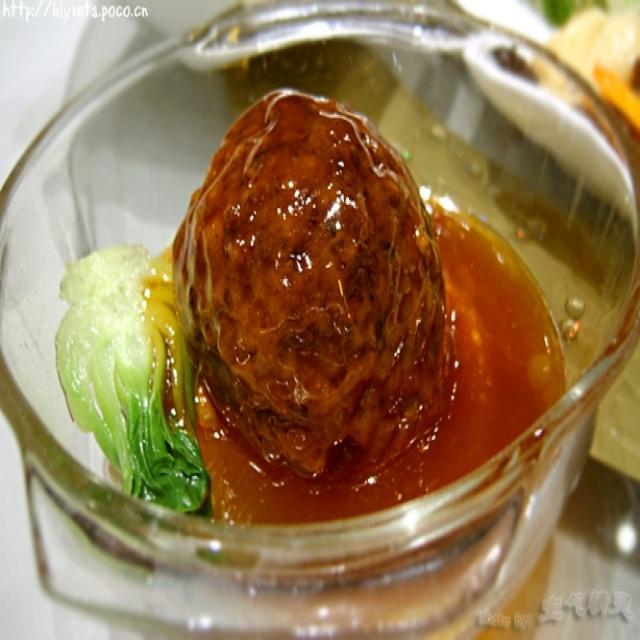猪肉菜式: (27, 37, 591, 564)
